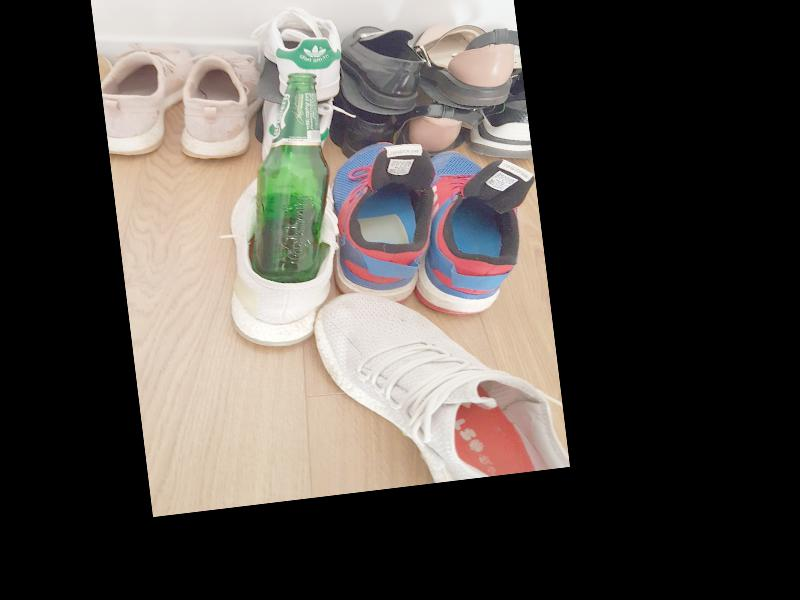Beer: (230, 72, 342, 286)
